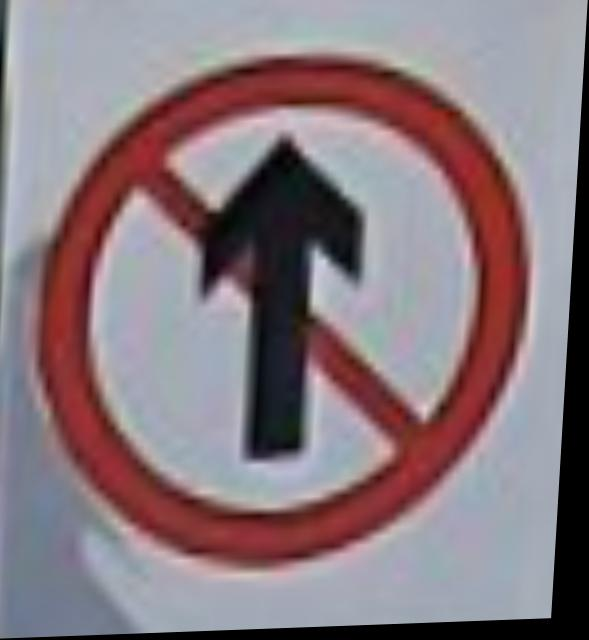not_go_straight: (21, 20, 554, 582)
